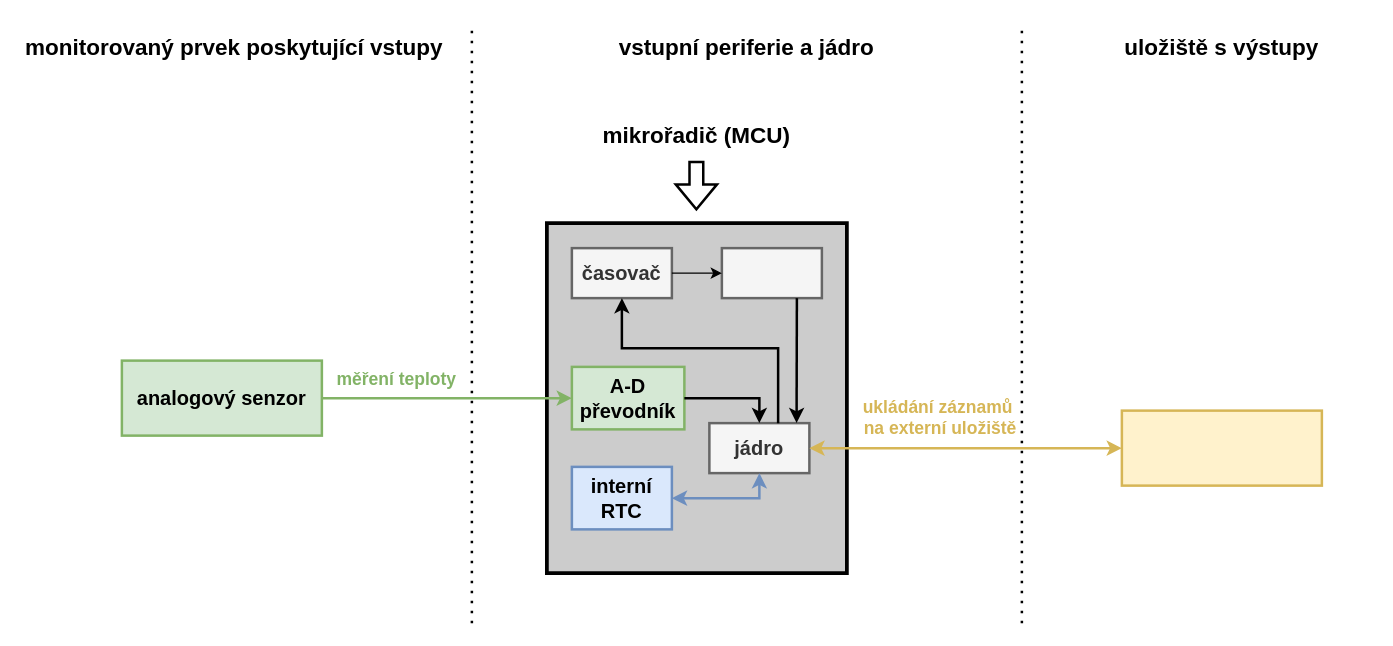
The diagram is 1393 pixels wide and 646 high, and some of its shapes have lost their labels. Each missing label, with the centre of its shape:
PIC: (771,272)
SDHC karta: (1221,447)
